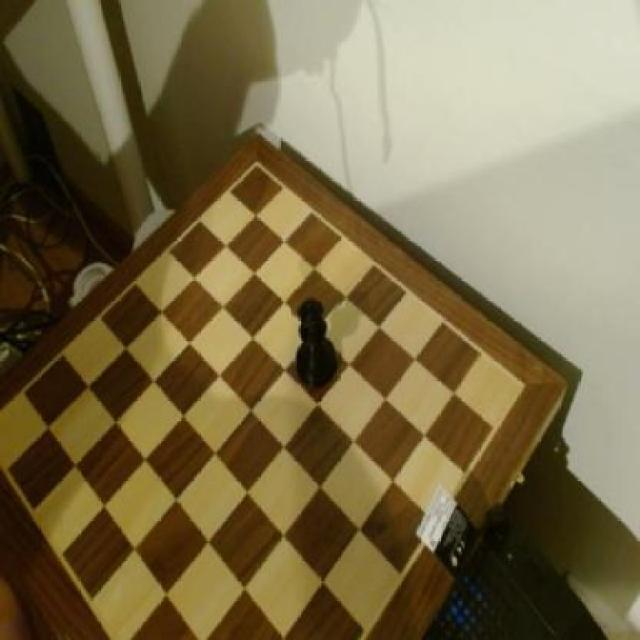black-pawn: (292, 288, 343, 392)
